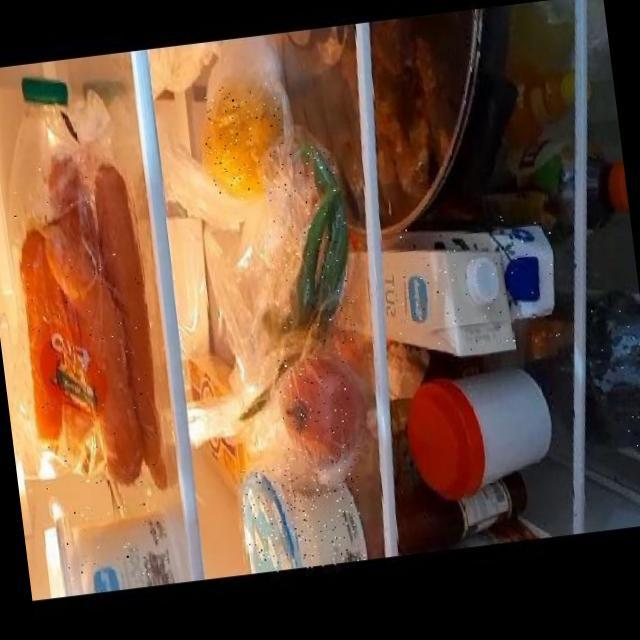Brocoli: (586, 281, 640, 466)
Limón: (199, 80, 290, 201)
Yogur: (236, 454, 368, 574), (51, 496, 172, 596)
Zanahoria: (6, 151, 163, 493)
green chilies: (259, 142, 361, 351)
milk: (381, 209, 565, 363)
tomato paste: (276, 349, 358, 463)
